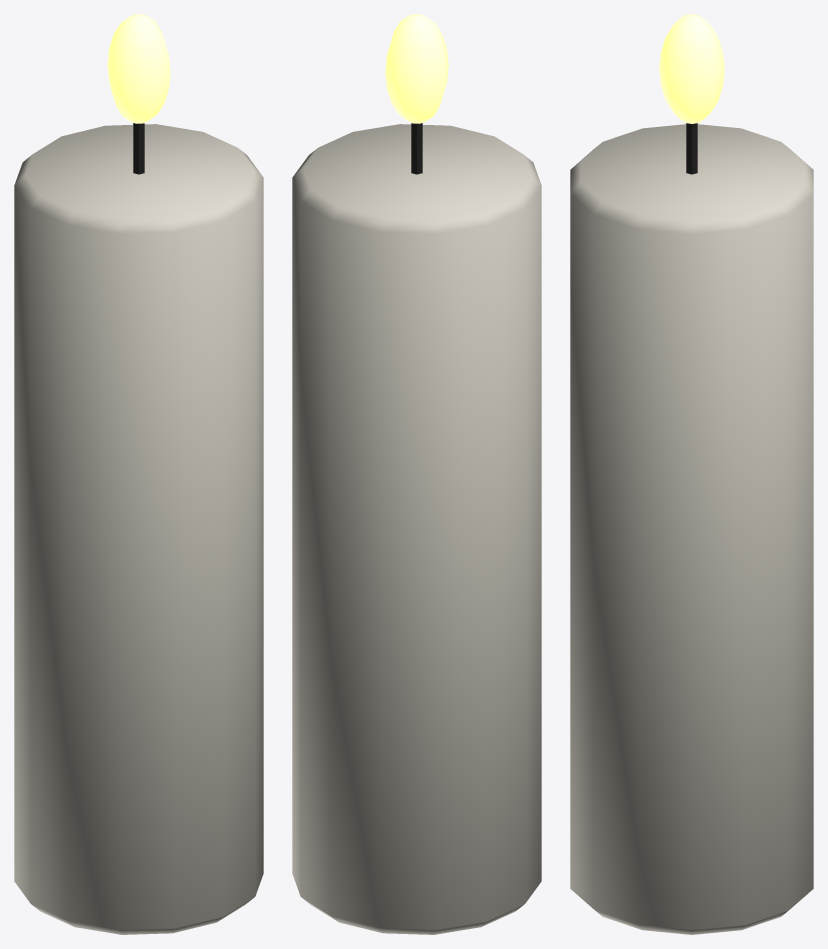
File: i_candles_0.glb
3 views of the same model, side by side, from view 1: azimuth 30°, elevation 25°; view 2: azimuth 150°, elevation 25°; view 3: azimuth 270°, elevation 25° (orthographic).
Visible parts, largest first — view 1: o, o.002, o.001; view 2: o, o.002, o.001; view 3: o, o.002, o.001.
Boxes of the visible parts, x1,y1,x2,y2 form: o: [14, 124, 263, 934]; o.002: [107, 14, 170, 123]; o.001: [133, 123, 144, 174]; o: [292, 124, 541, 934]; o.002: [385, 14, 448, 123]; o.001: [411, 123, 422, 174]; o: [570, 124, 813, 934]; o.002: [659, 14, 724, 123]; o.001: [686, 123, 697, 174].
Bounding box in the file's own units: 0.0458 × 0.1763 × 0.0447.
